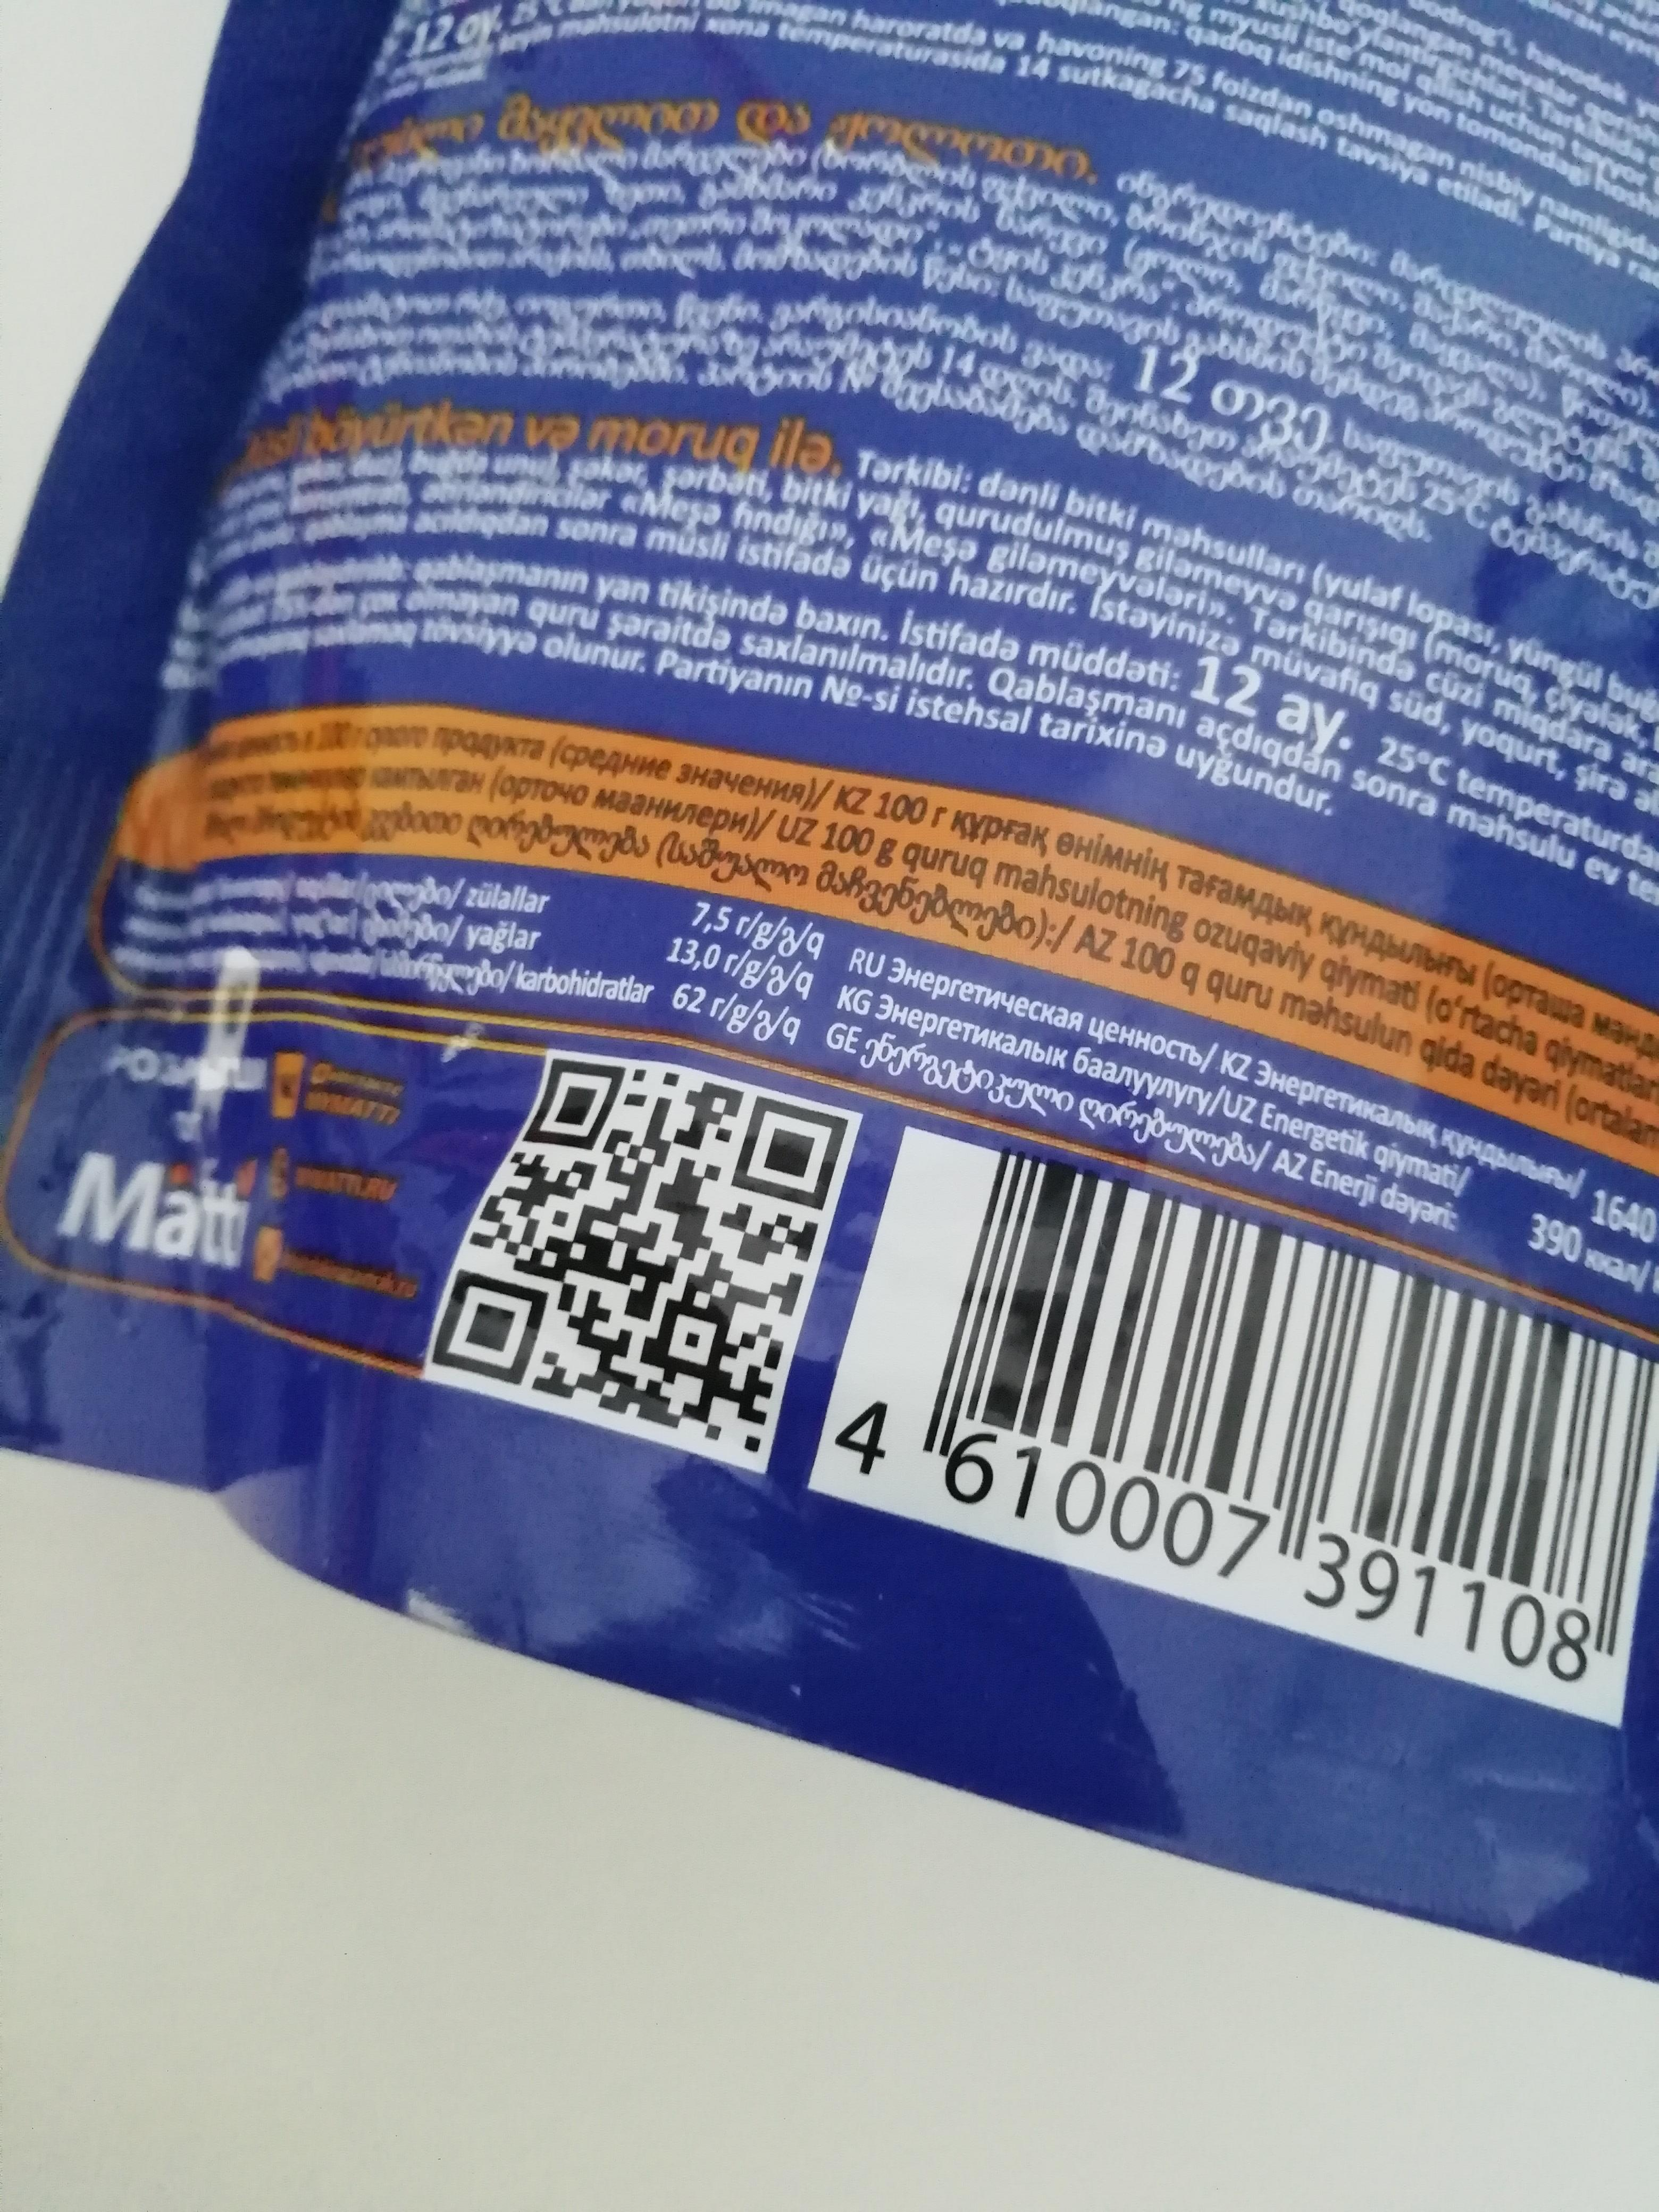qrcode: (430, 1055, 849, 1453)
